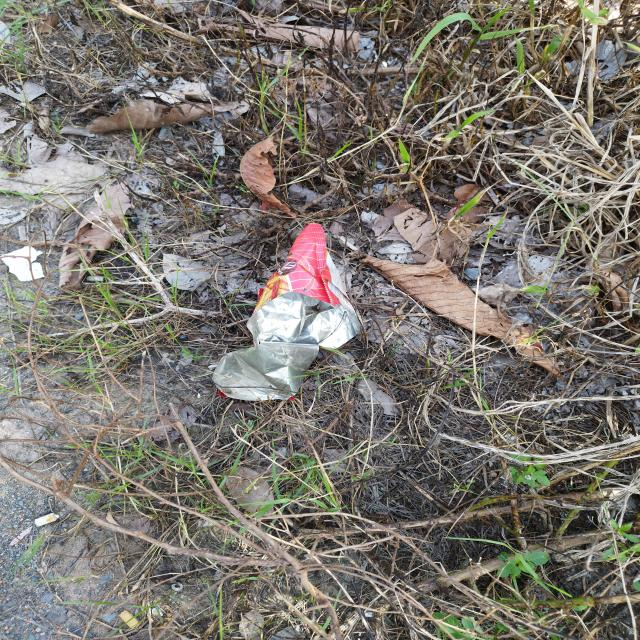snack package: (213, 221, 363, 400)
